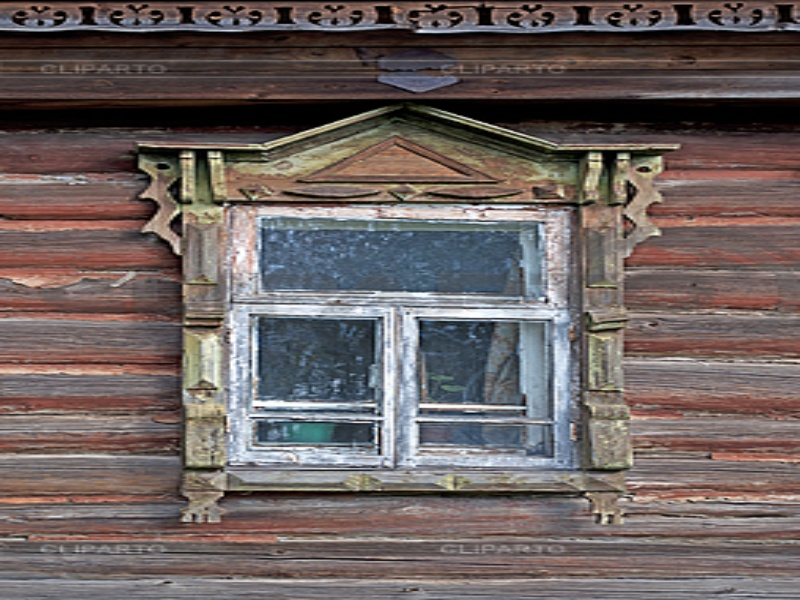window: (227, 199, 575, 471)
